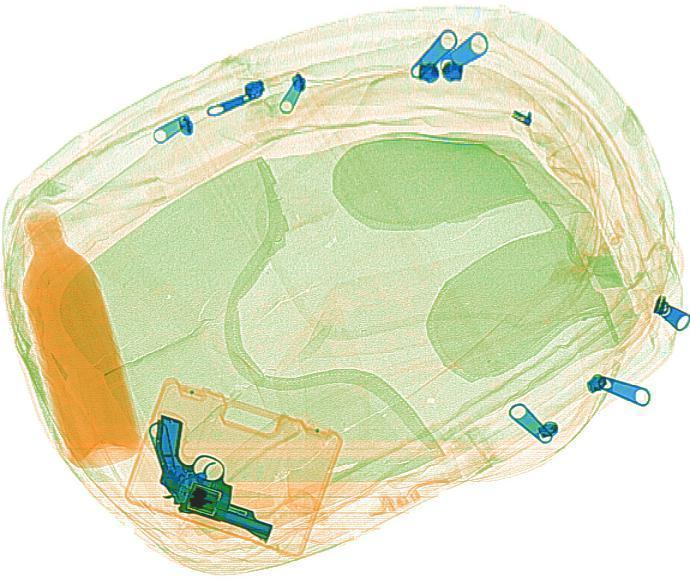Gun: (102, 406, 298, 565)
